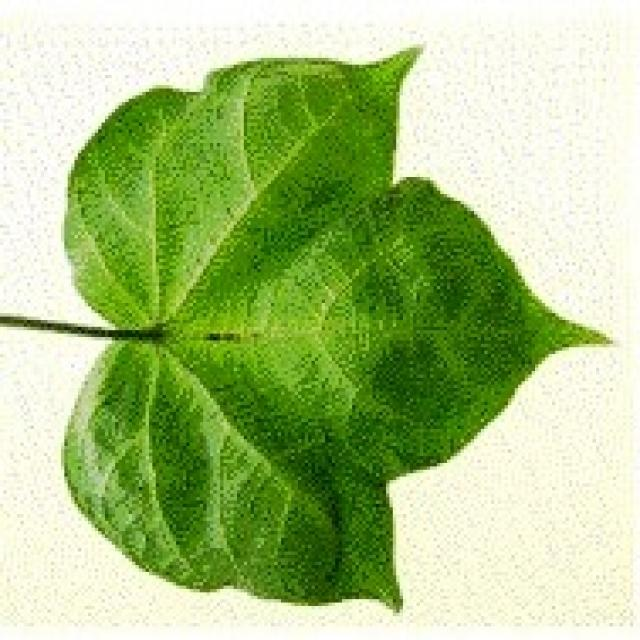Leaf Curl Virus: (106, 138, 415, 471)
